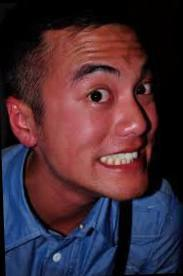Drunk: (63, 33, 157, 197)
